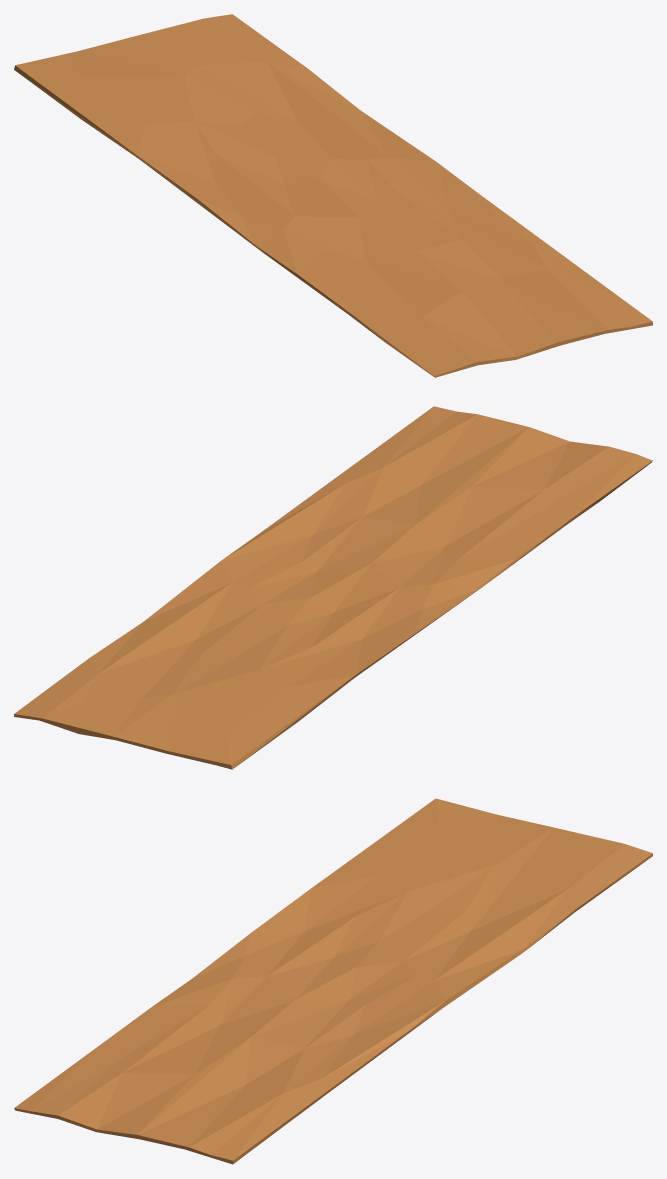
3 renders of one model, top to bottom at view 1: azimuth 30°, elevation 25°; view 2: azimuth 150°, elevation 25°; view 3: azimuth 330°, elevation 25°, orthographic.
Parts seen in each view (by area): view 1: Plane.001; view 2: Plane.001; view 3: Plane.001.
Part boxes in pixels (box(x1,y1,x2,y2)): Plane.001: box(14, 14, 652, 377); Plane.001: box(14, 406, 652, 769); Plane.001: box(14, 798, 652, 1164).
Size of the model in its own units: 598 by 1989 by 24.13.
